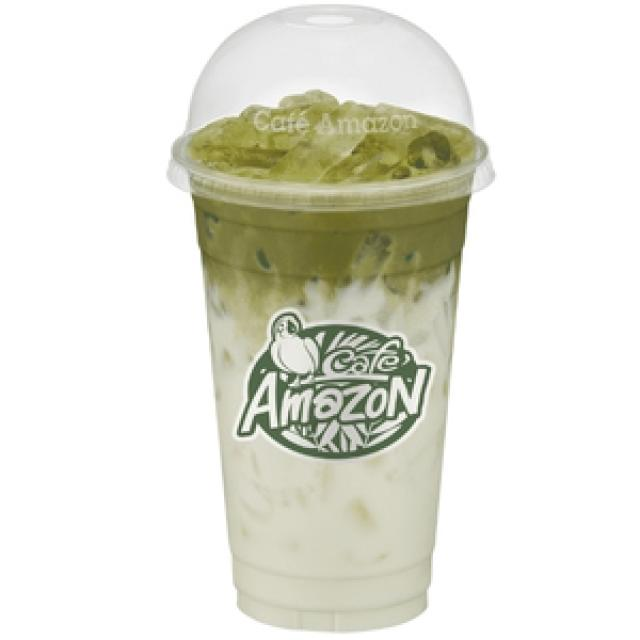cup: (165, 4, 497, 634)
